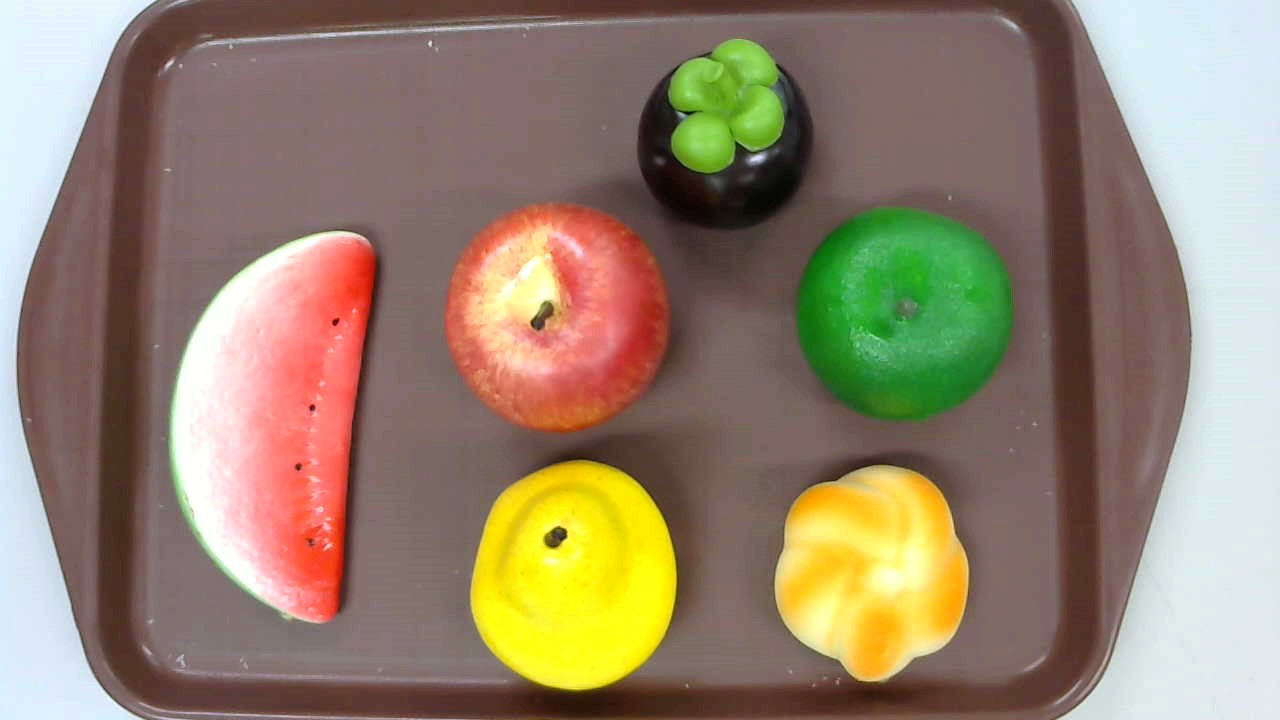green orange: (794, 204, 1013, 423)
mangosteen: (637, 39, 814, 230)
red apple: (443, 202, 672, 434)
twist bread: (775, 464, 968, 681)
water melon: (167, 229, 375, 625)
yellow pear: (470, 460, 678, 692)
